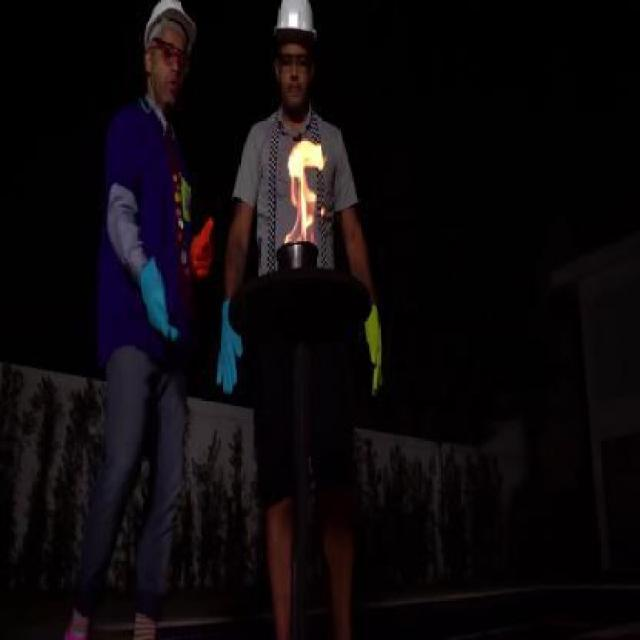Fire: (282, 137, 330, 240)
